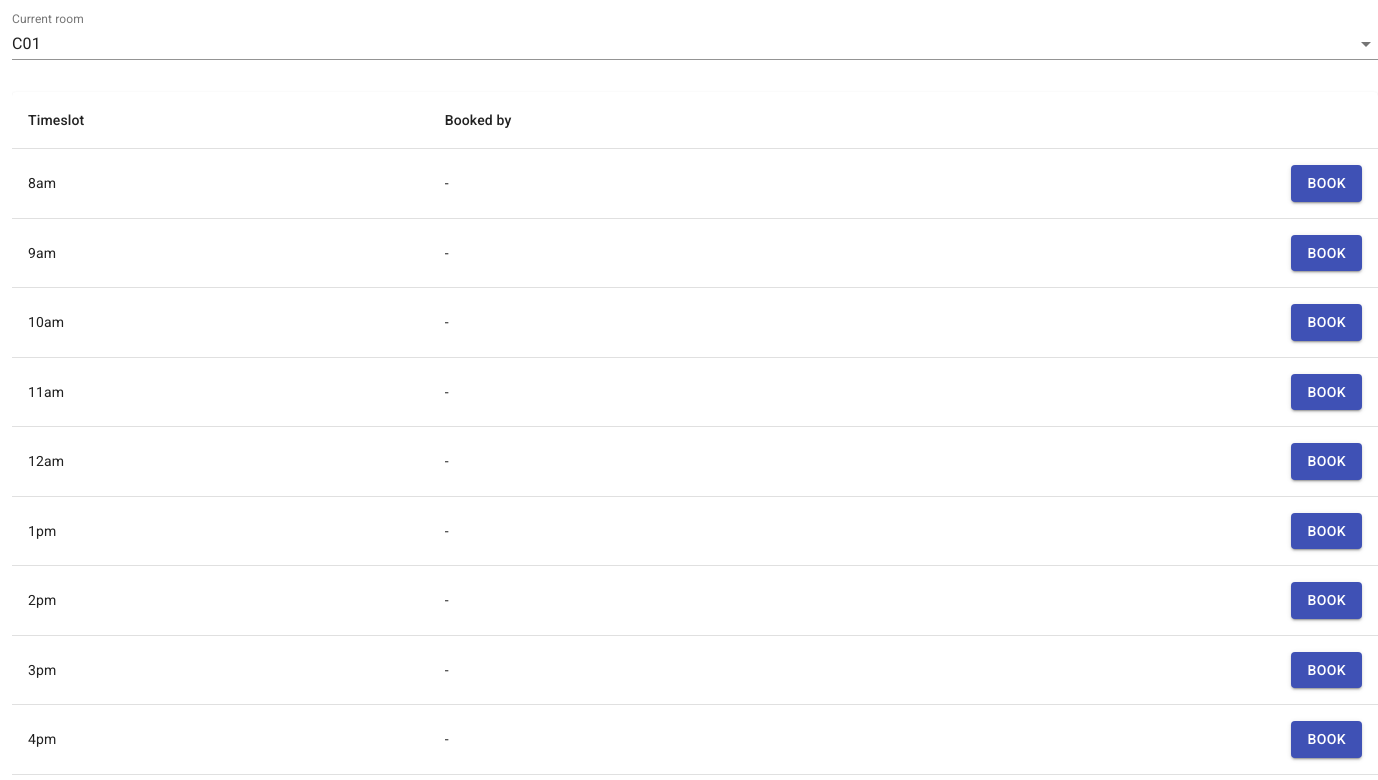
Scenario: BookingTable › should show warning message and loader when booking a room
This screenshot has width=1378, height=780.
Click the button with test id "book-button-0" at (1327, 183), box [1291,165,1362,202]
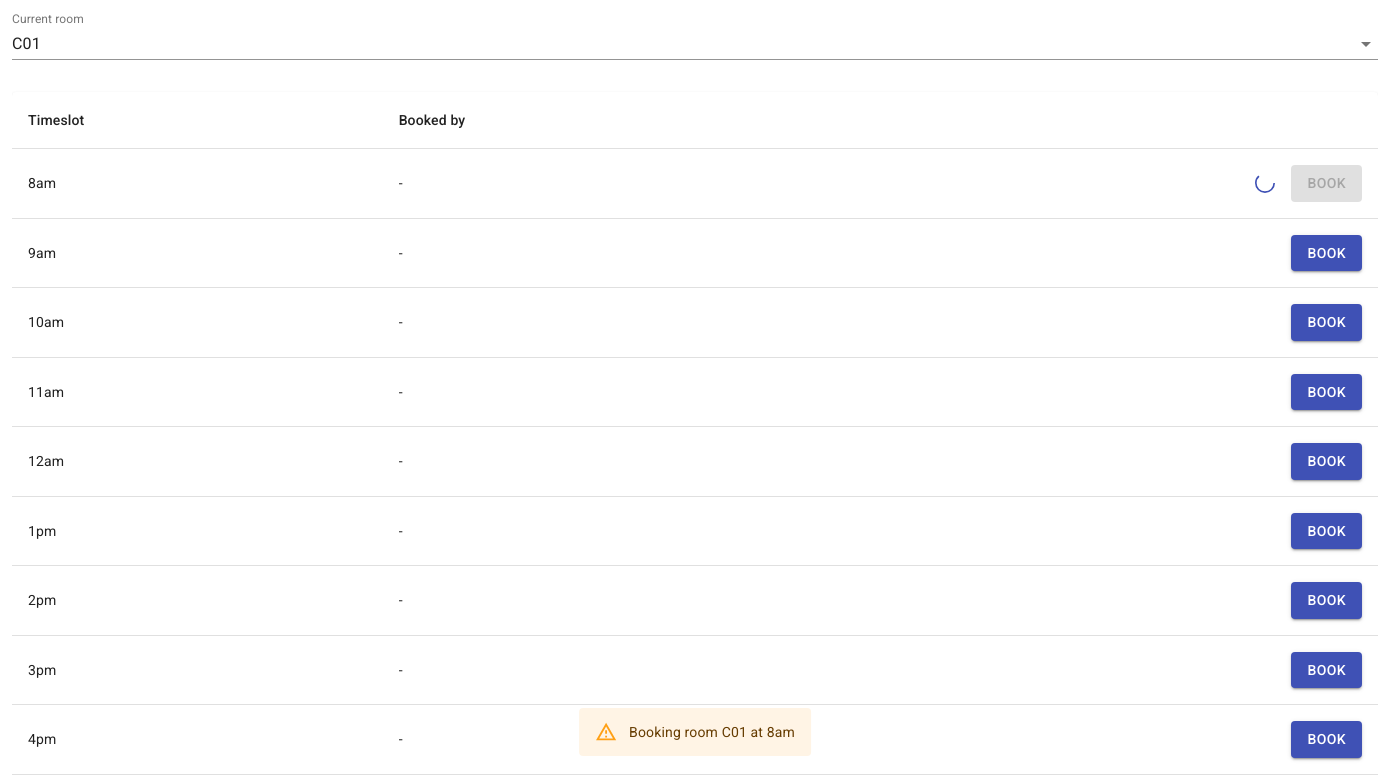
Expected: the text "Booking room C01 at 8am" is shown, [629,724,795,740]
Expected: the progress indicator with test id "loader-0" is shown, [1255,173,1275,193]
